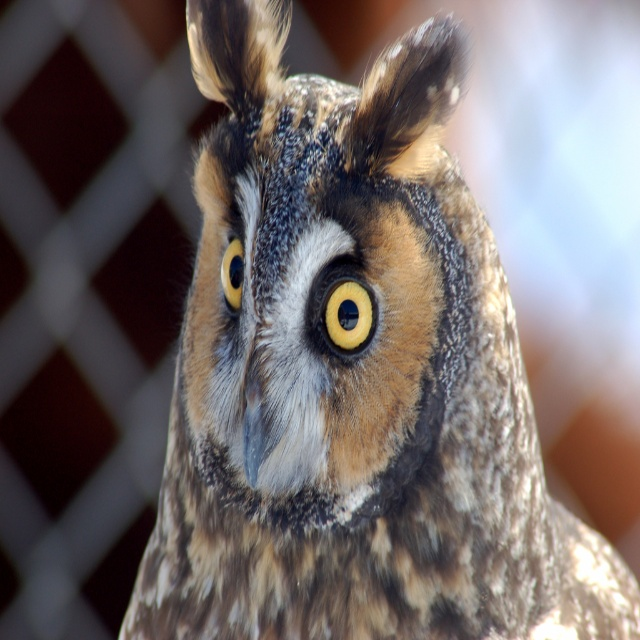Owl: (120, 0, 640, 639)
